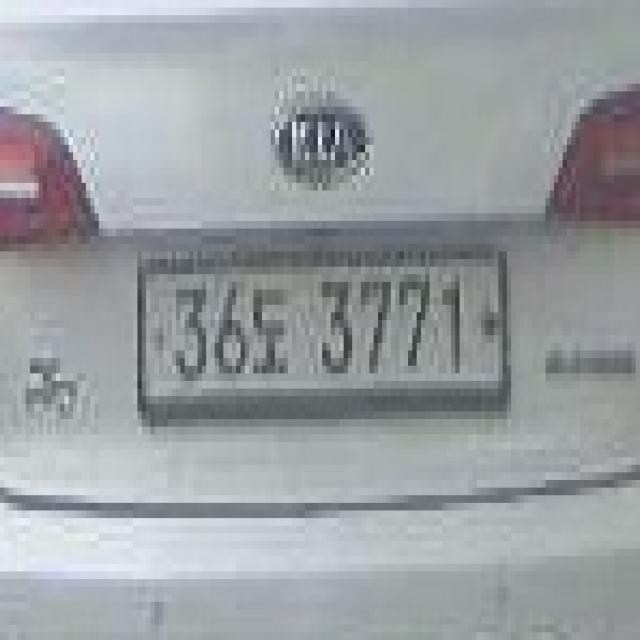1: (442, 274, 464, 374)
3: (172, 274, 210, 381), (318, 267, 356, 373)
6: (211, 282, 249, 381)
7: (399, 266, 434, 366), (361, 274, 391, 381)
do: (254, 282, 292, 373)
license_plate: (133, 244, 511, 419)
